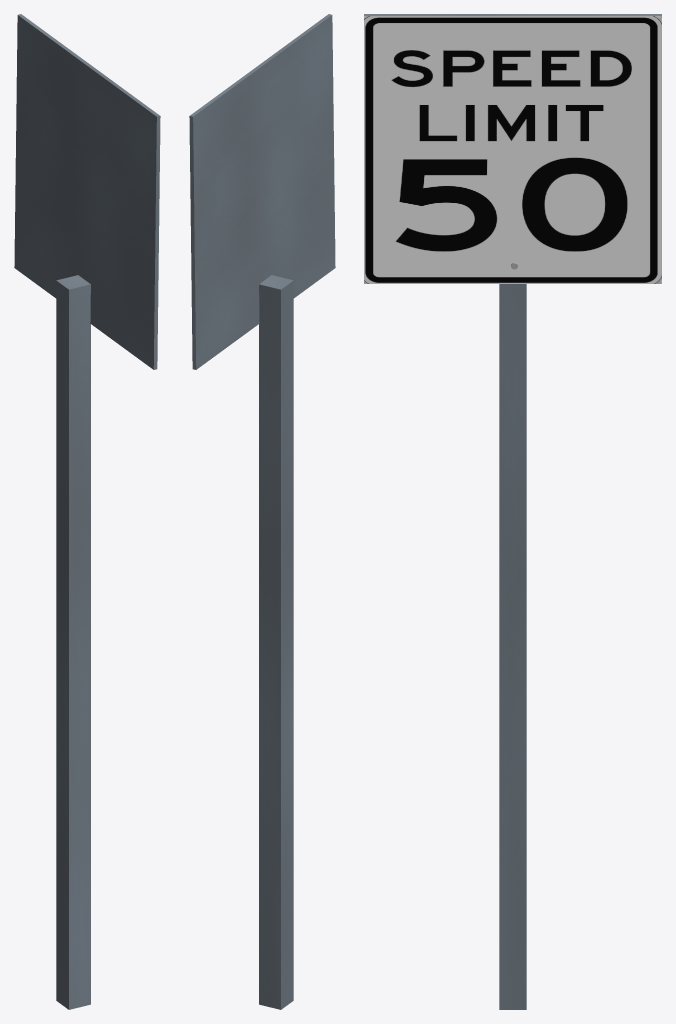
The model's file is SpeedLimitSign.fbx.
3 renders of one model, left to right at view 1: azimuth 30°, elevation 25°; view 2: azimuth 150°, elevation 25°; view 3: azimuth 270°, elevation 25°, orthographic. The views are drawn at different scales.
Parts seen in each view (by area): view 1: SpeedLimitSign; view 2: SpeedLimitSign; view 3: SpeedLimitSign.
Part boxes in pixels (box(x1,y1,x2,y2)): SpeedLimitSign: box(14, 14, 160, 1009); SpeedLimitSign: box(189, 14, 335, 1009); SpeedLimitSign: box(364, 14, 661, 1009).
Size of the model in its own units: 9.95 by 314 by 84.95.
1 material, 1 textured.
